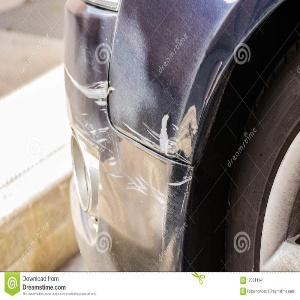bumper_scratch: (69, 83, 194, 216)
